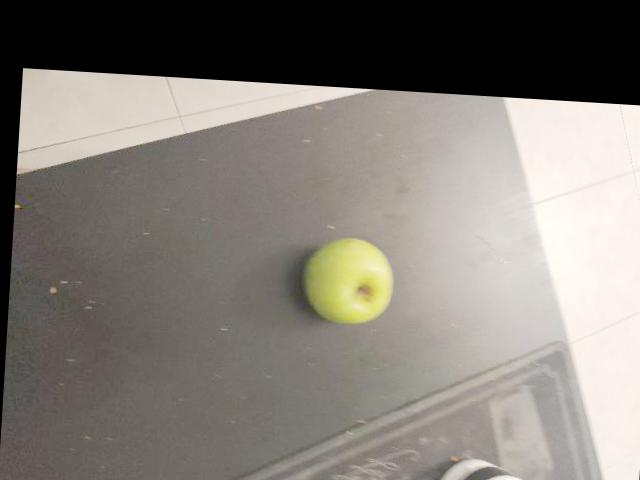apple: (392, 177, 500, 318)
